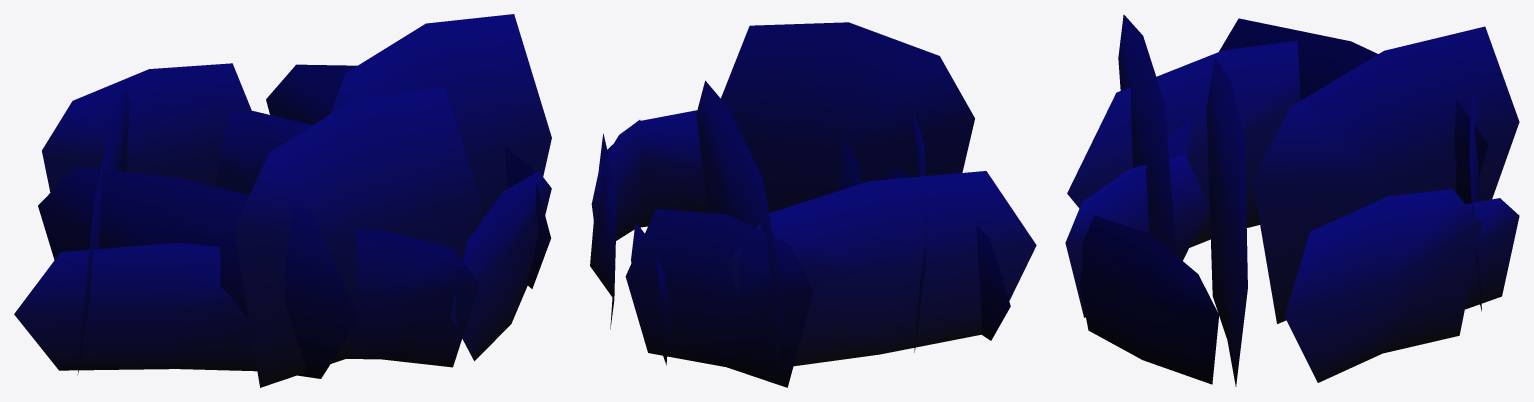
Rendered from SM_Grass_S_Patch_Md_03.fbx.
3 renders of one model, left to right at view 1: azimuth 30°, elevation 25°; view 2: azimuth 150°, elevation 25°; view 3: azimuth 270°, elevation 25°, orthographic. The views are drawn at different scales.
Visible parts, largest first — view 1: SM_Grass_S_Patch_Md_03; view 2: SM_Grass_S_Patch_Md_03; view 3: SM_Grass_S_Patch_Md_03.
Boxes of the visible parts, left/top/right/bottom form: SM_Grass_S_Patch_Md_03: left=14, top=14, right=551, bottom=387; SM_Grass_S_Patch_Md_03: left=590, top=22, right=1036, bottom=387; SM_Grass_S_Patch_Md_03: left=1065, top=14, right=1519, bottom=386.
Size of the model in its own units: 111 by 88.32 by 57.23.
